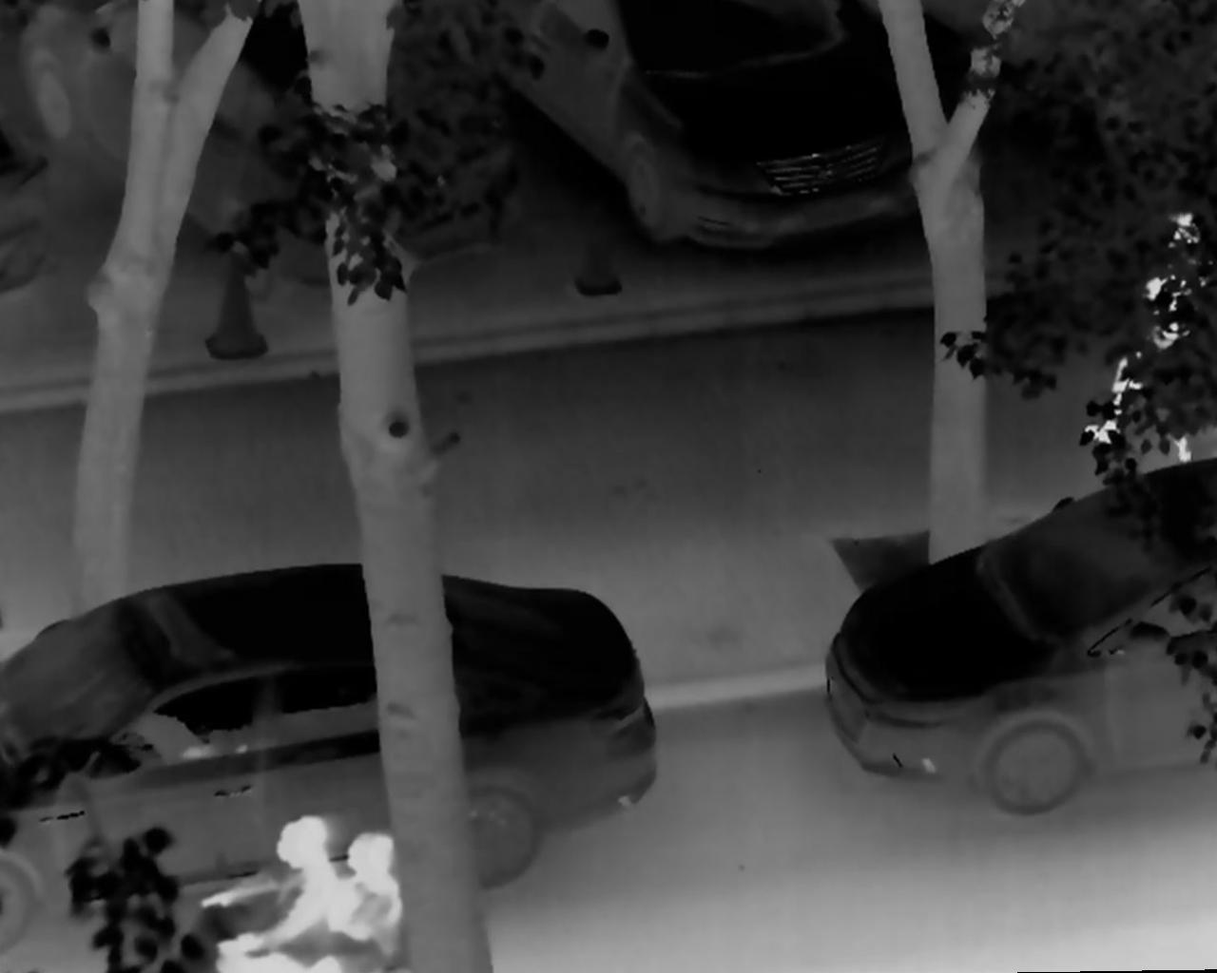person: (1084, 187, 1205, 469), (189, 813, 338, 973), (317, 819, 414, 973)
